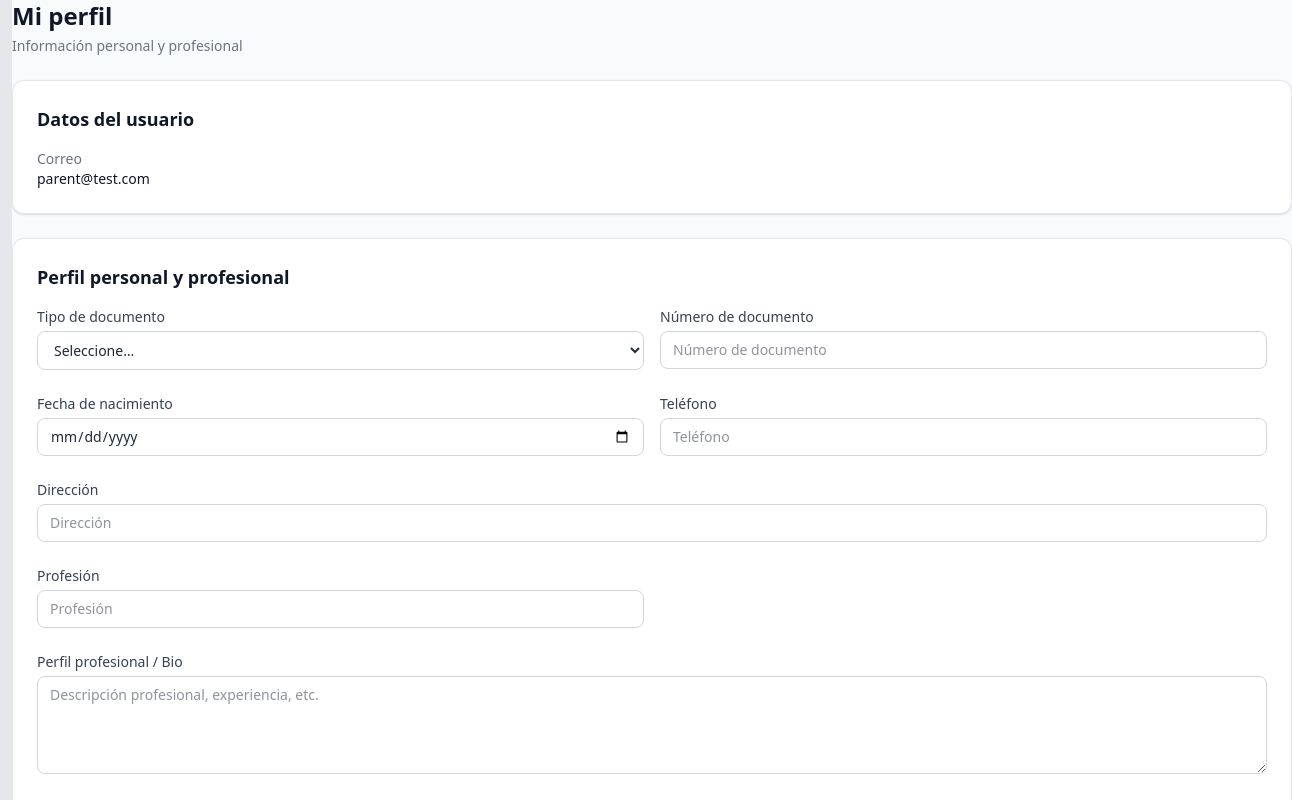
Test: UserProfilePage › saves changes and shows success
Expected: the heading "Mi perfil" is shown, 12,0 -> 112,32
Type "555-123" into the field with placeholder "Teléfono" at (964, 437), box 660,418 -> 1267,456
(page scrolled)
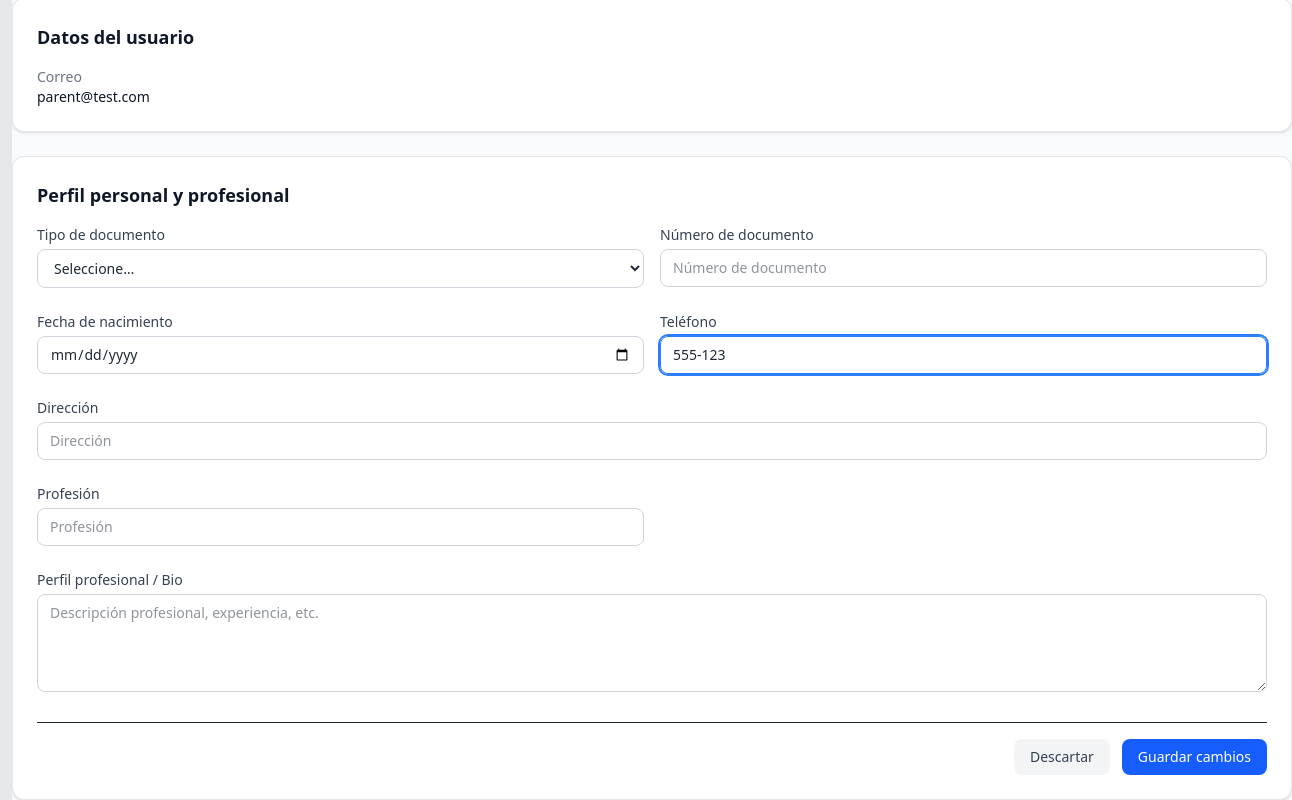
Click the button "Guardar cambios" at (1194, 757), box 1122,739 -> 1267,775
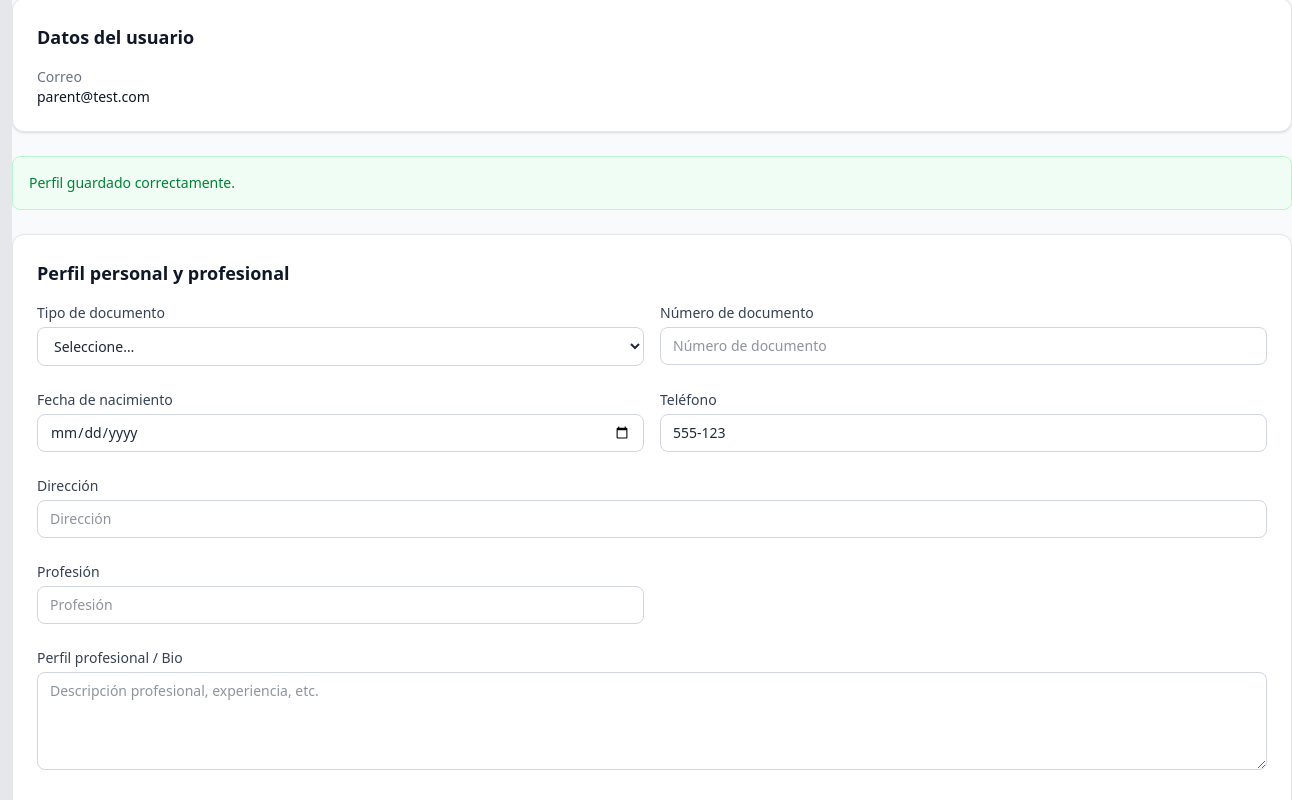
Result: the text "Perfil guardado correctamente." is shown at 29,173 -> 235,192
